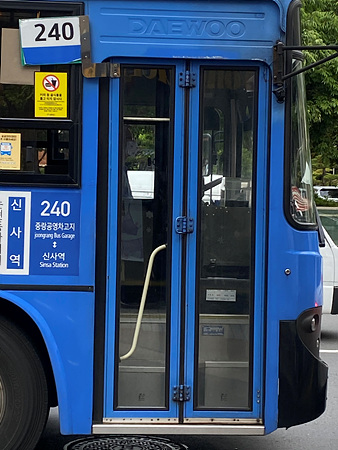entrance: (102, 49, 274, 439)
